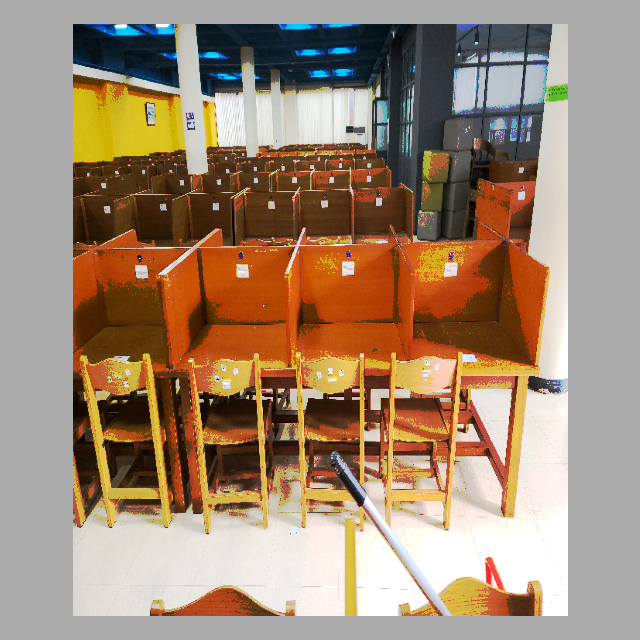empty: (413, 235, 545, 438), (166, 255, 286, 454), (293, 244, 410, 439)
